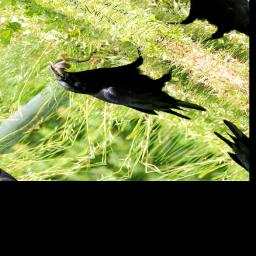Crow: (38, 25, 225, 143)
